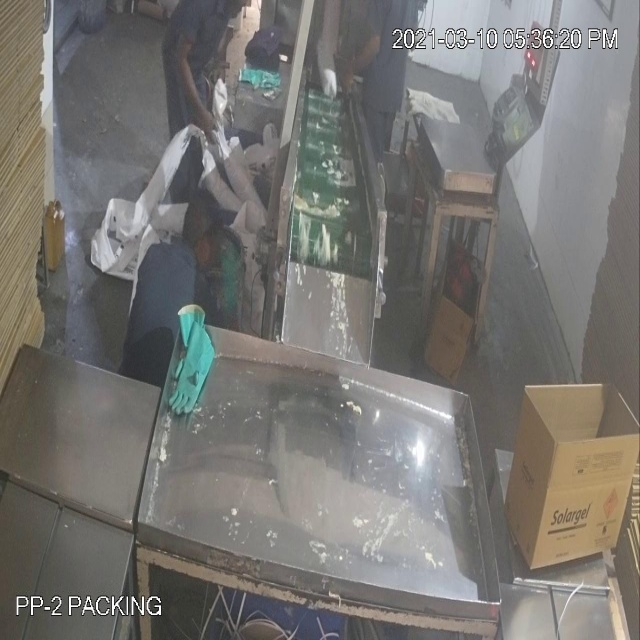Sin_guantes: (173, 28, 218, 140), (335, 27, 386, 104)
